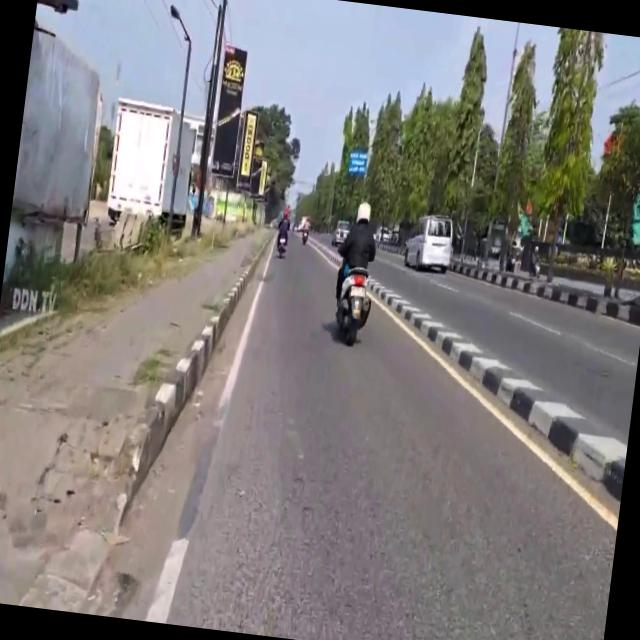WithHelmet: (330, 200, 382, 320), (274, 208, 292, 253)
